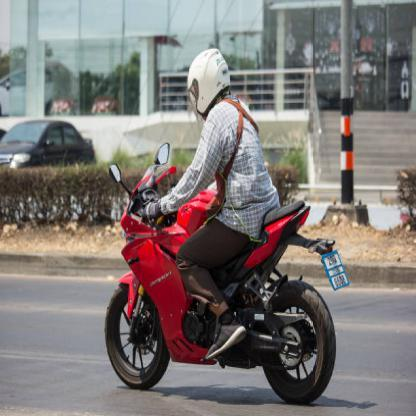Motorcycle: (104, 152, 341, 408)
